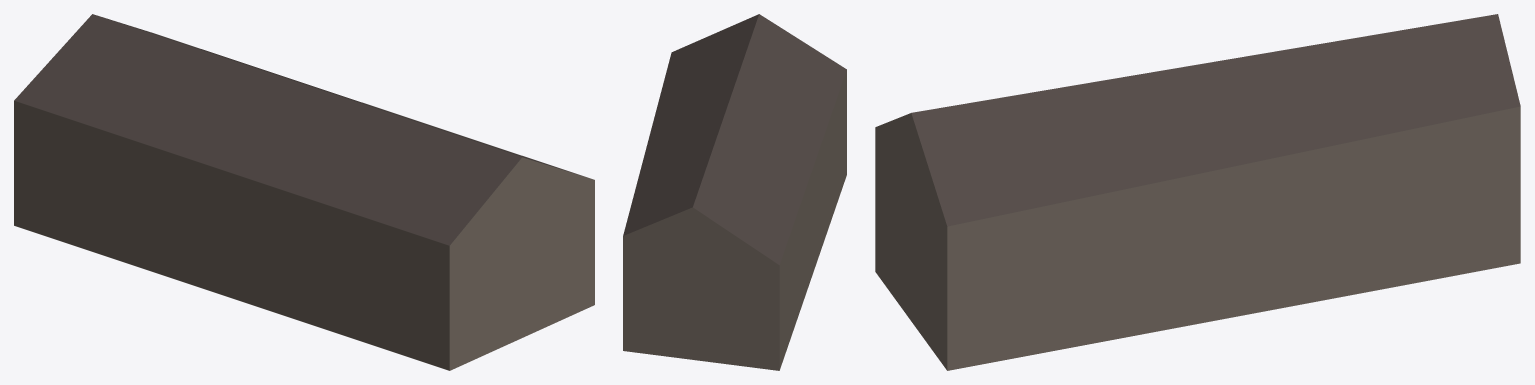
The picture shows the model from 3 angles, left to right: view 1: azimuth 30°, elevation 25°; view 2: azimuth 150°, elevation 25°; view 3: azimuth 270°, elevation 25°; orthographic projection. The views are drawn at different scales.
Visible parts, largest first — view 1: HP-w1512461410; view 2: HP-w1512461410; view 3: HP-w1512461410.
Part boxes in pixels (bbox=[...]): HP-w1512461410: bbox=[14, 14, 594, 370]; HP-w1512461410: bbox=[623, 14, 846, 370]; HP-w1512461410: bbox=[875, 14, 1520, 370].
Size of the model in its own units: 17.78 by 8.66 by 24.31.
